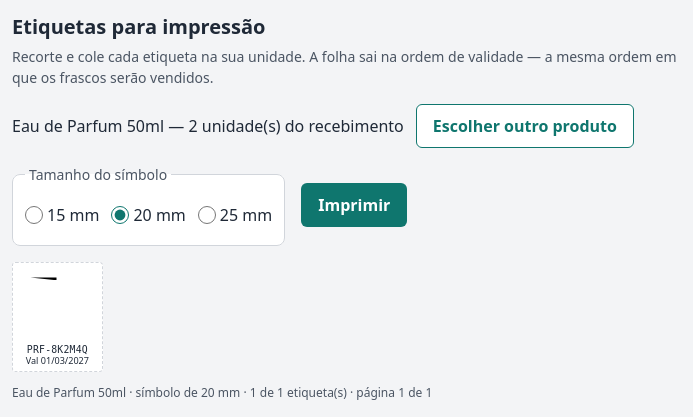
it: TelaEtiquetas (RF04) › aplica à folha o tamanho de símbolo escolhido
Expected: the text "símbolo de 20 mm" is shown, [12,384,432,401]
What coordinates should you click on to do the following:
click the radio button labelled "15 mm"
I would click on:
 (34, 215)
Its box is [25,206,43,224].
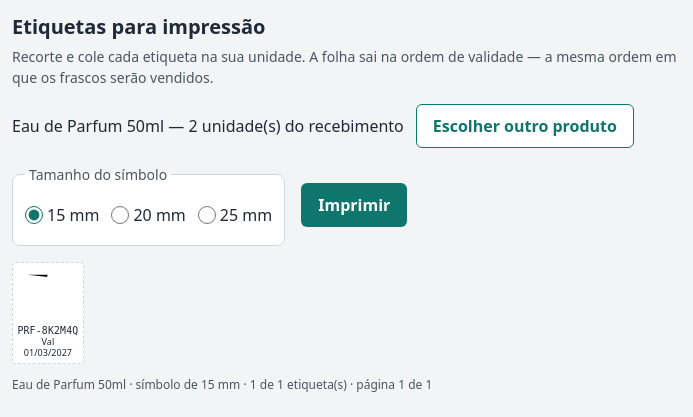
Now the text "símbolo de 15 mm" is shown, box [12,376,432,393]
